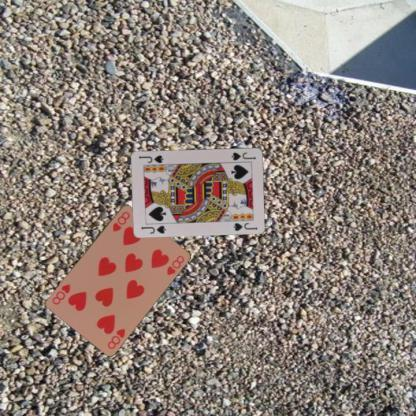8h: (104, 326, 127, 351), (110, 208, 131, 233)
Js: (139, 223, 168, 235), (228, 150, 256, 162)
